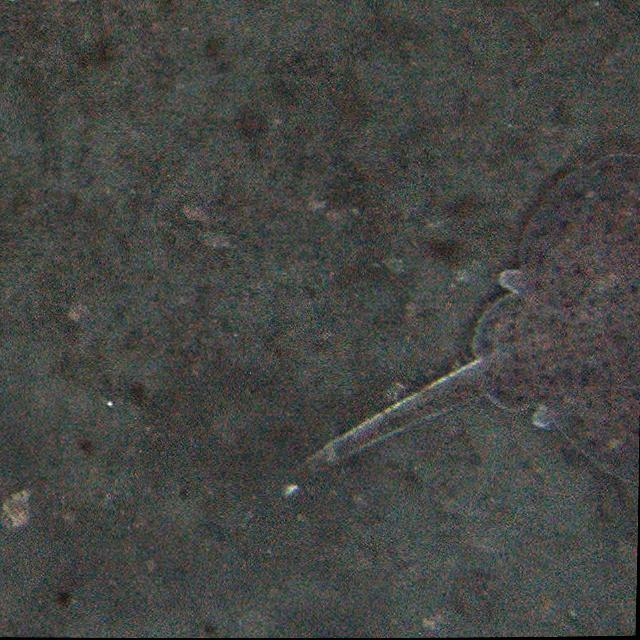skate: (275, 149, 640, 505)
